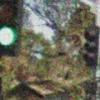traffic lights: (0, 0, 23, 58)
